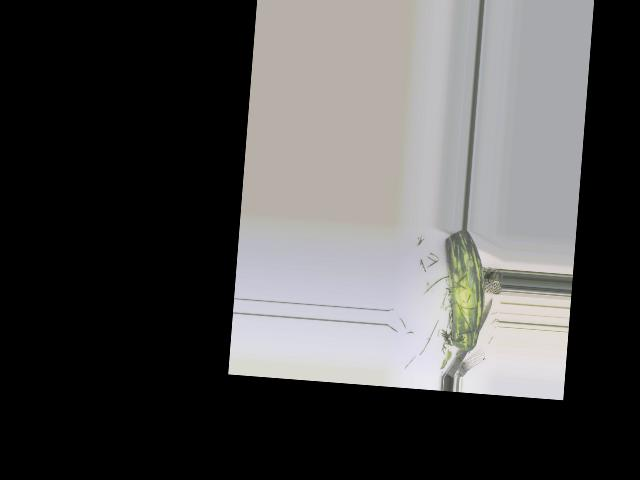cucumber: (436, 229, 489, 352)
